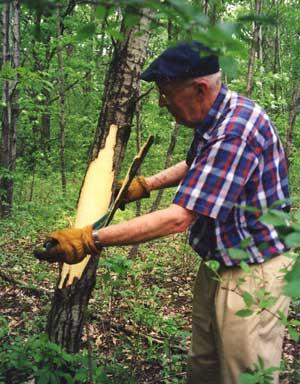person: (36, 41, 293, 384)
